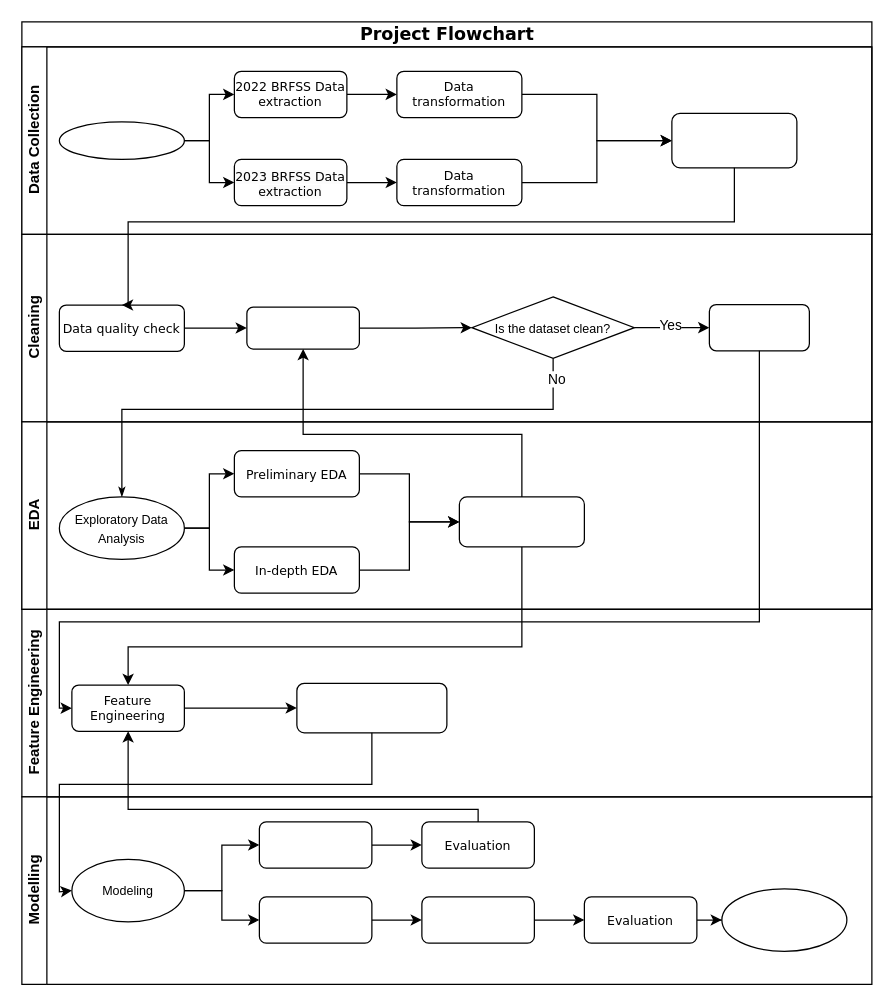
Some shapes in this 894 by 1006 pixel diagram are drawn without their labels. Here are the shapes that lost their labels. From the top down, the centre of each, then its label:
At (121,140): "Start".
At (734,140): "Integrate into single raw dataset".
At (302,327): "Data Cleaning".
At (758,327): "Export clean dataset".
At (521,521): "EDA insights".
At (371,707): "Data preparation".
At (315,844): "Baseline modeling".
At (315,919): "Advanced modeling".
At (477,919): "Hyperparameter tuning".
At (784,919): "Production".
